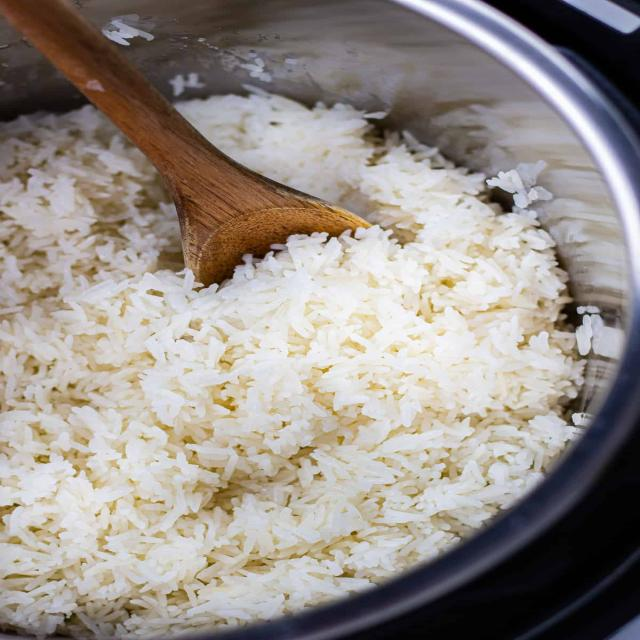Wet Waste: (0, 70, 605, 640)
